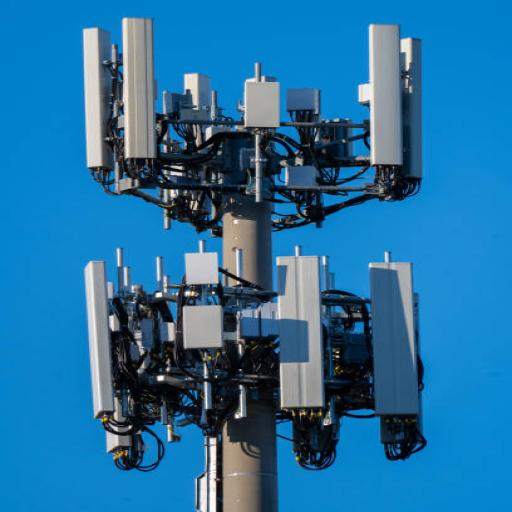monopole_tower: (80, 16, 424, 512)
